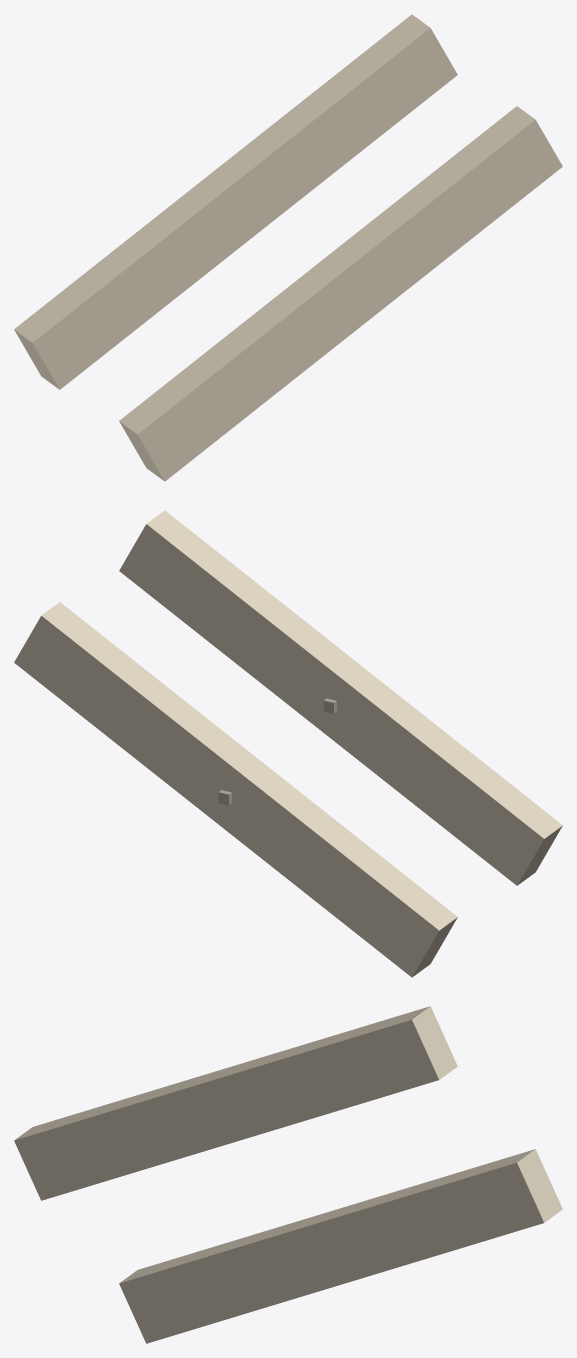
Rendered from historic-palestine-11_27_3534_3215.glb.
The picture shows the model from 3 angles, top to bottom: view 1: azimuth 30°, elevation 25°; view 2: azimuth 150°, elevation 25°; view 3: azimuth 330°, elevation 25°; orthographic projection.
Parts seen in each view (by area): view 1: Building_.001, Building_; view 2: Building_.001, Building_; view 3: Building_.001, Building_.
Part boxes in pixels (bbox=[...]): Building_.001: bbox=[119, 106, 562, 481]; Building_: bbox=[14, 14, 457, 389]; Building_.001: bbox=[14, 602, 457, 977]; Building_: bbox=[119, 510, 562, 885]; Building_.001: bbox=[119, 1149, 562, 1343]; Building_: bbox=[14, 1006, 457, 1200].
Bounding box in the file's own units: 123 × 86.34 × 8.7.
